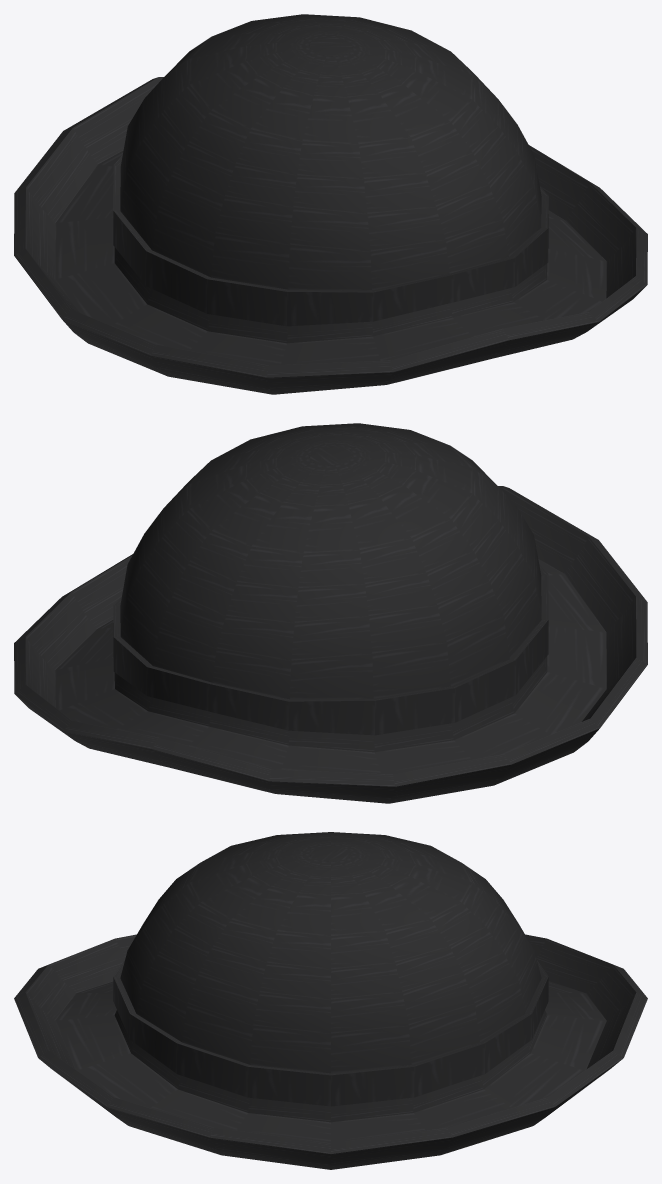
File: hat2.obj
The picture shows the model from 3 angles, top to bottom: view 1: azimuth 30°, elevation 25°; view 2: azimuth 150°, elevation 25°; view 3: azimuth 270°, elevation 25°; orthographic projection. The views are drawn at different scales.
Visible parts, largest first — view 1: Cylinder; view 2: Cylinder; view 3: Cylinder.
Boxes of the visible parts, box(x1,y1,x2,y2) form: Cylinder: box(14, 14, 647, 394); Cylinder: box(14, 423, 647, 803); Cylinder: box(14, 832, 647, 1169).
Size of the model in its own units: 2.62 by 1.15 by 3.01.
1 material, 1 textured.
